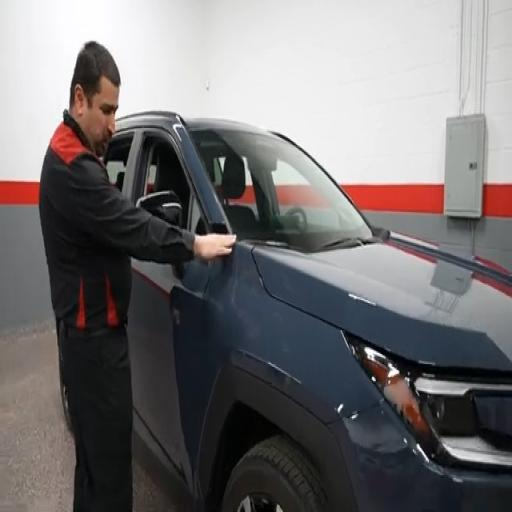bumper: (331, 403, 511, 511)
door: (128, 259, 209, 484)
headlight: (346, 338, 511, 467)
hood: (253, 234, 511, 371)
side_mirror: (136, 191, 182, 226)
tire: (222, 436, 327, 511)
wheel: (222, 436, 327, 511), (58, 340, 72, 432)
window: (103, 134, 133, 190)
windshield: (191, 130, 371, 251)
